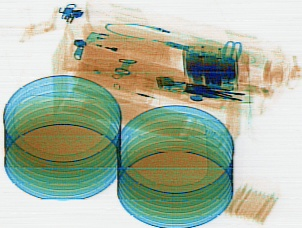lighter: (81, 29, 155, 58)
